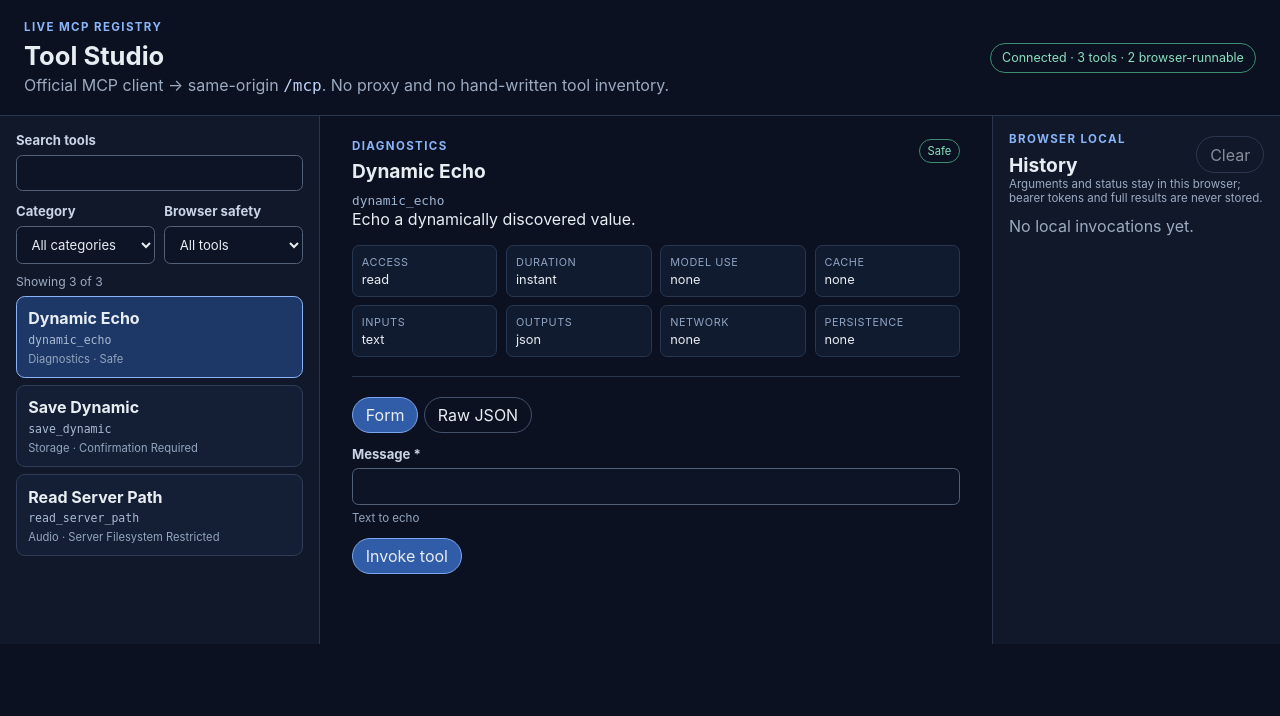
Scenario: ToolStudio › requires confirmation and blocks server-filesystem tools
The image size is (1280, 716).
Expected: the text "Connected · 3 tools · 2 browser-runnable" is shown, [990,43,1256,73]
Click the button "Save Dynamic save_dynamic storage · confirmation required": [84, 407] box [16,385,303,467]
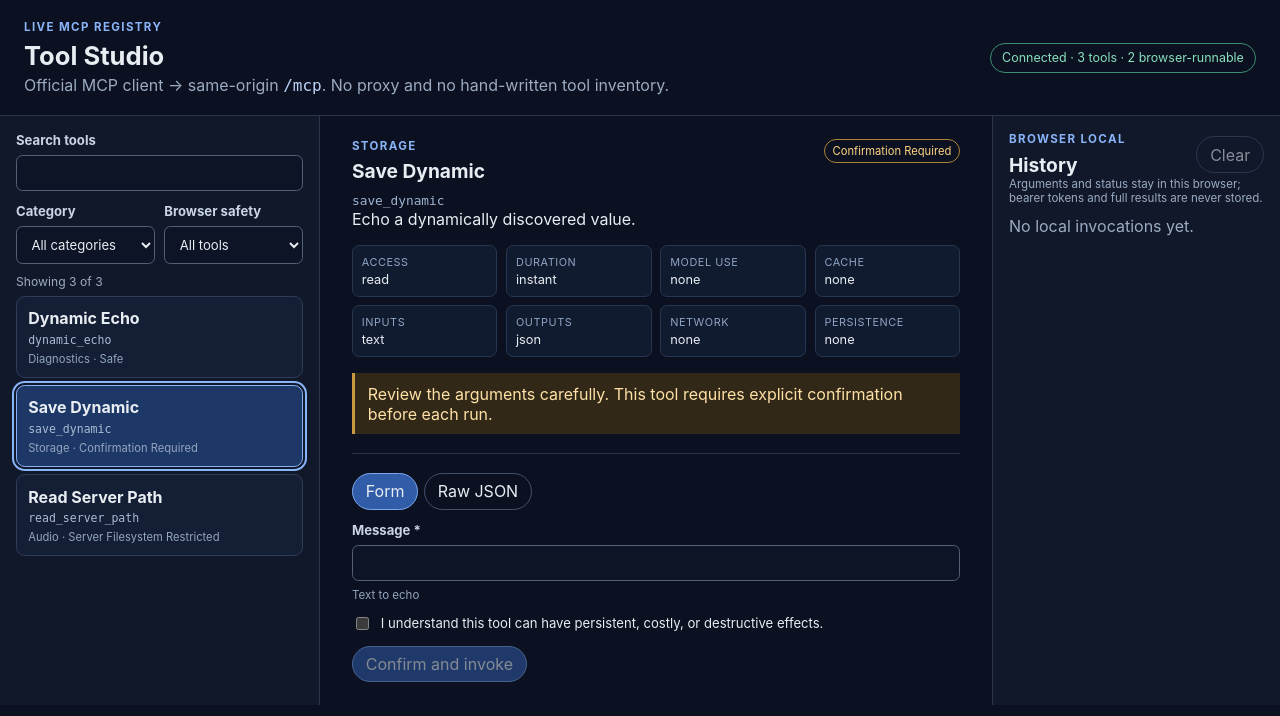
Now the button "Confirm and invoke" is disabled, box [352,646,527,682]
Click the checkbox: [362, 624] box [356,617,369,630]
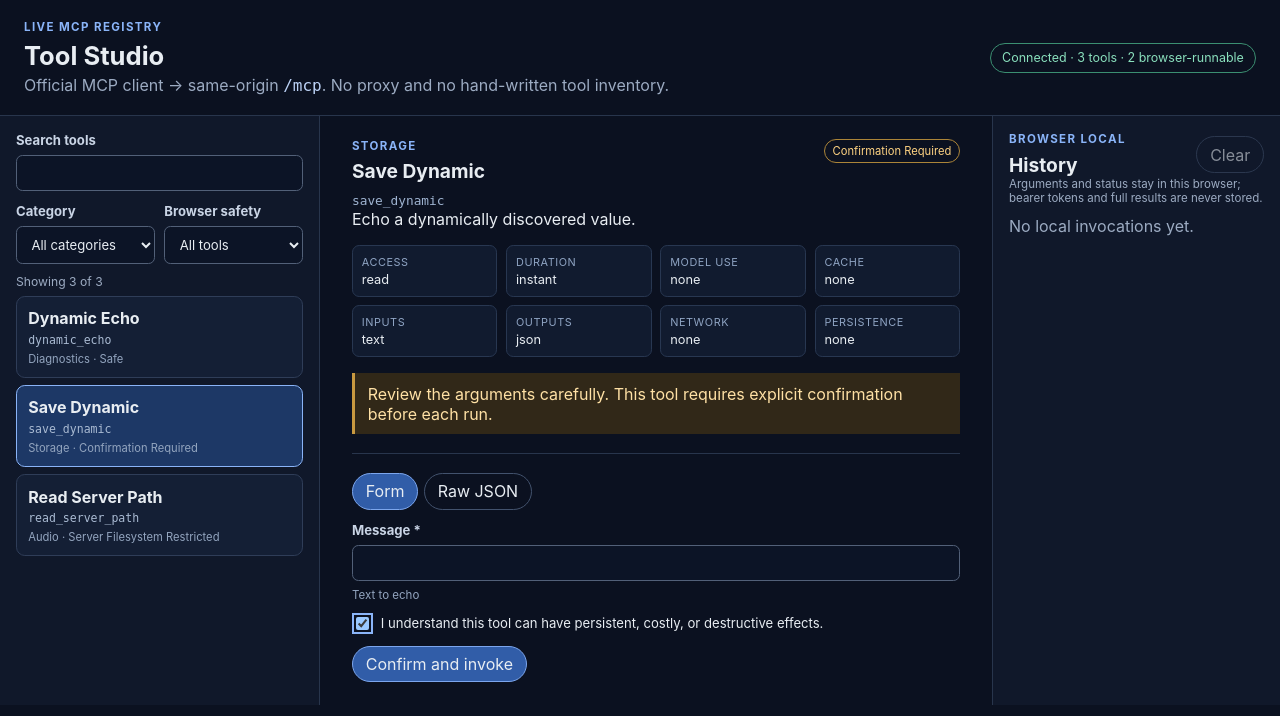
In the field labelled "Message * Text to echo": [656, 563] box [352,545,960,581], type "save"
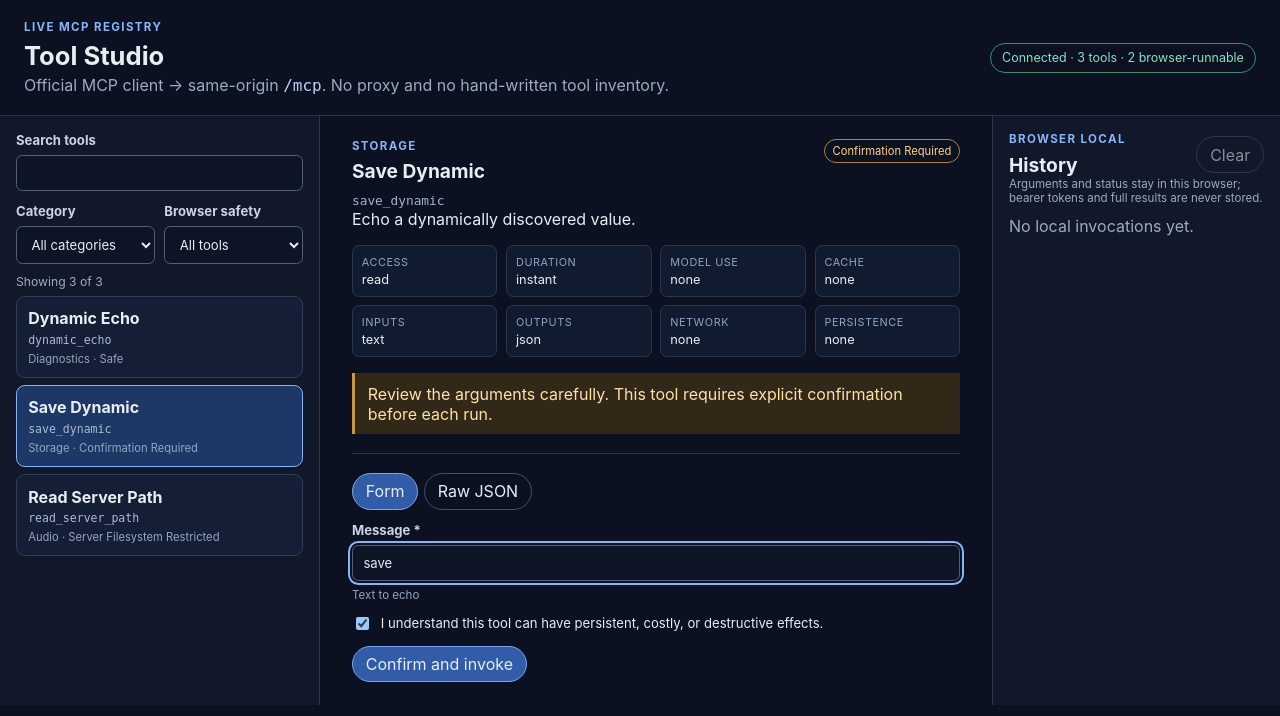
Click the button "Confirm and invoke": [439, 664] box [352,646,527,682]
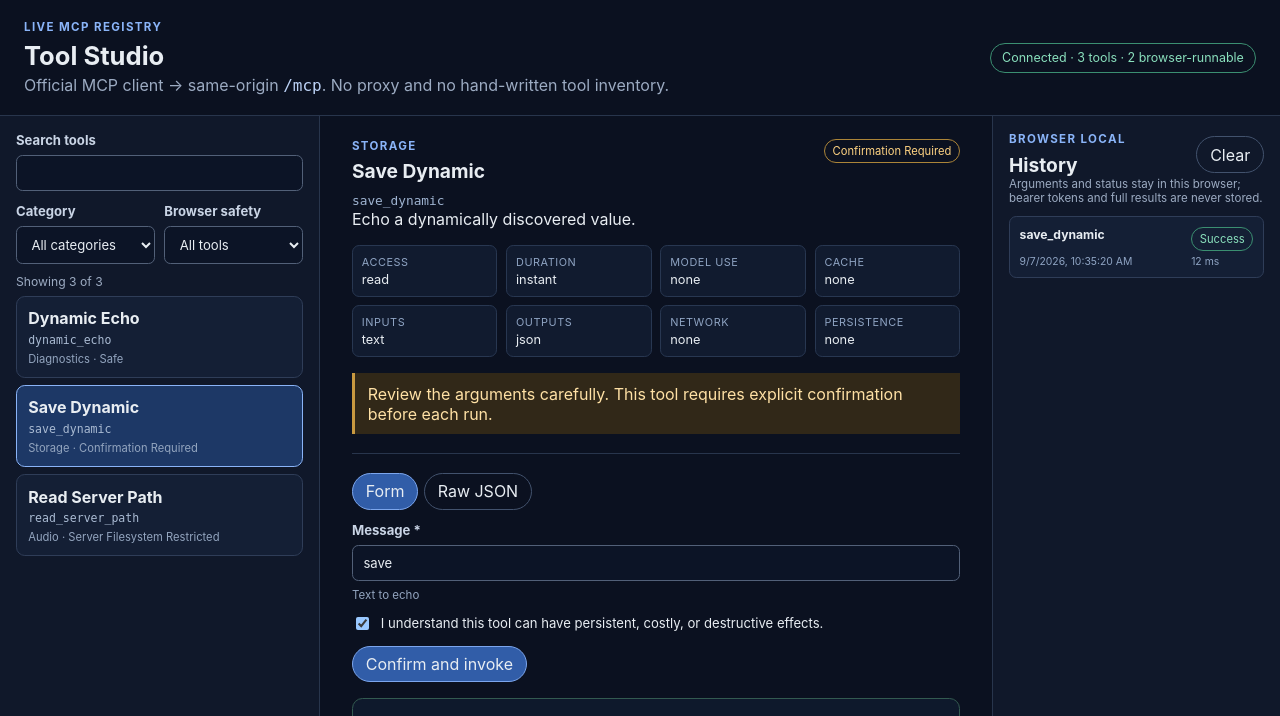
Click the button "read_server_path": [95, 497] box [16,474,303,556]
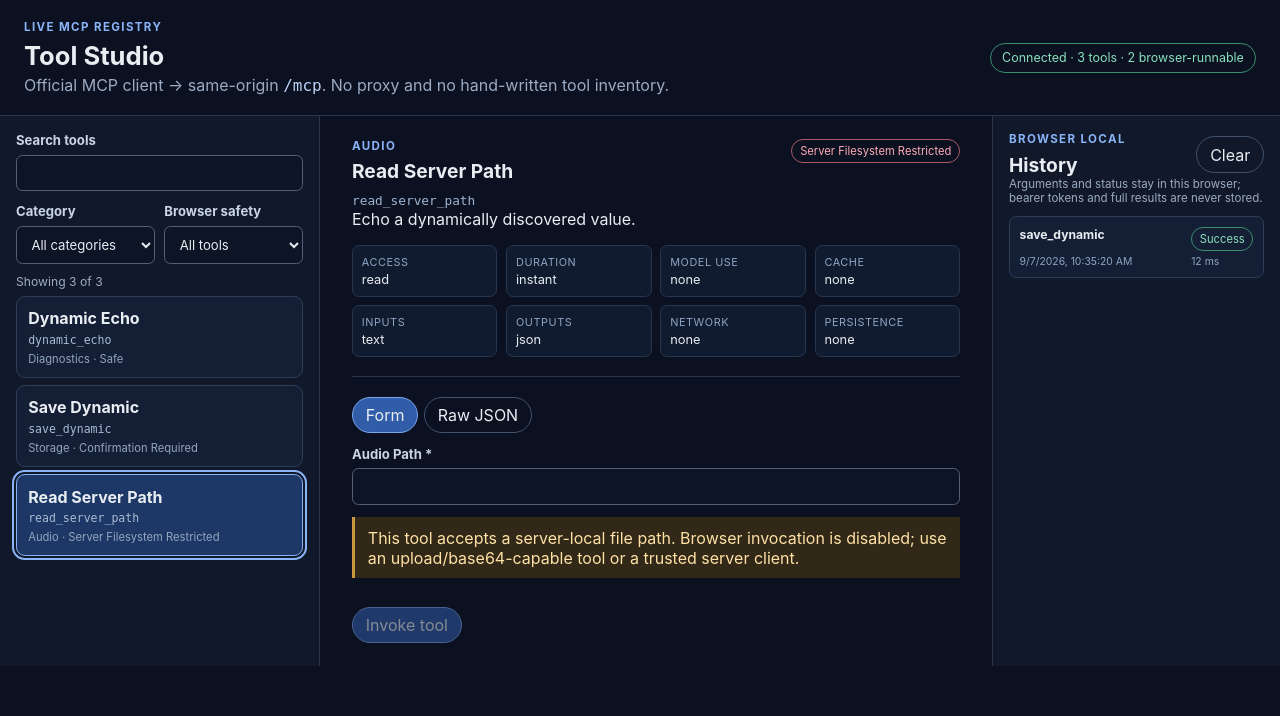
Now the 2nd message shows "server-local file path", box [368,528,947,568]
Now the button "Invoke tool" is disabled, box [352,607,462,643]
